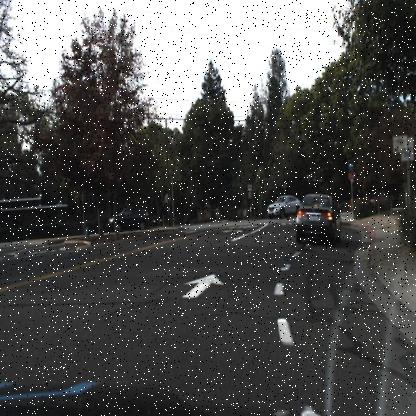car: (296, 194, 340, 246), (108, 206, 155, 232), (265, 194, 305, 222)
